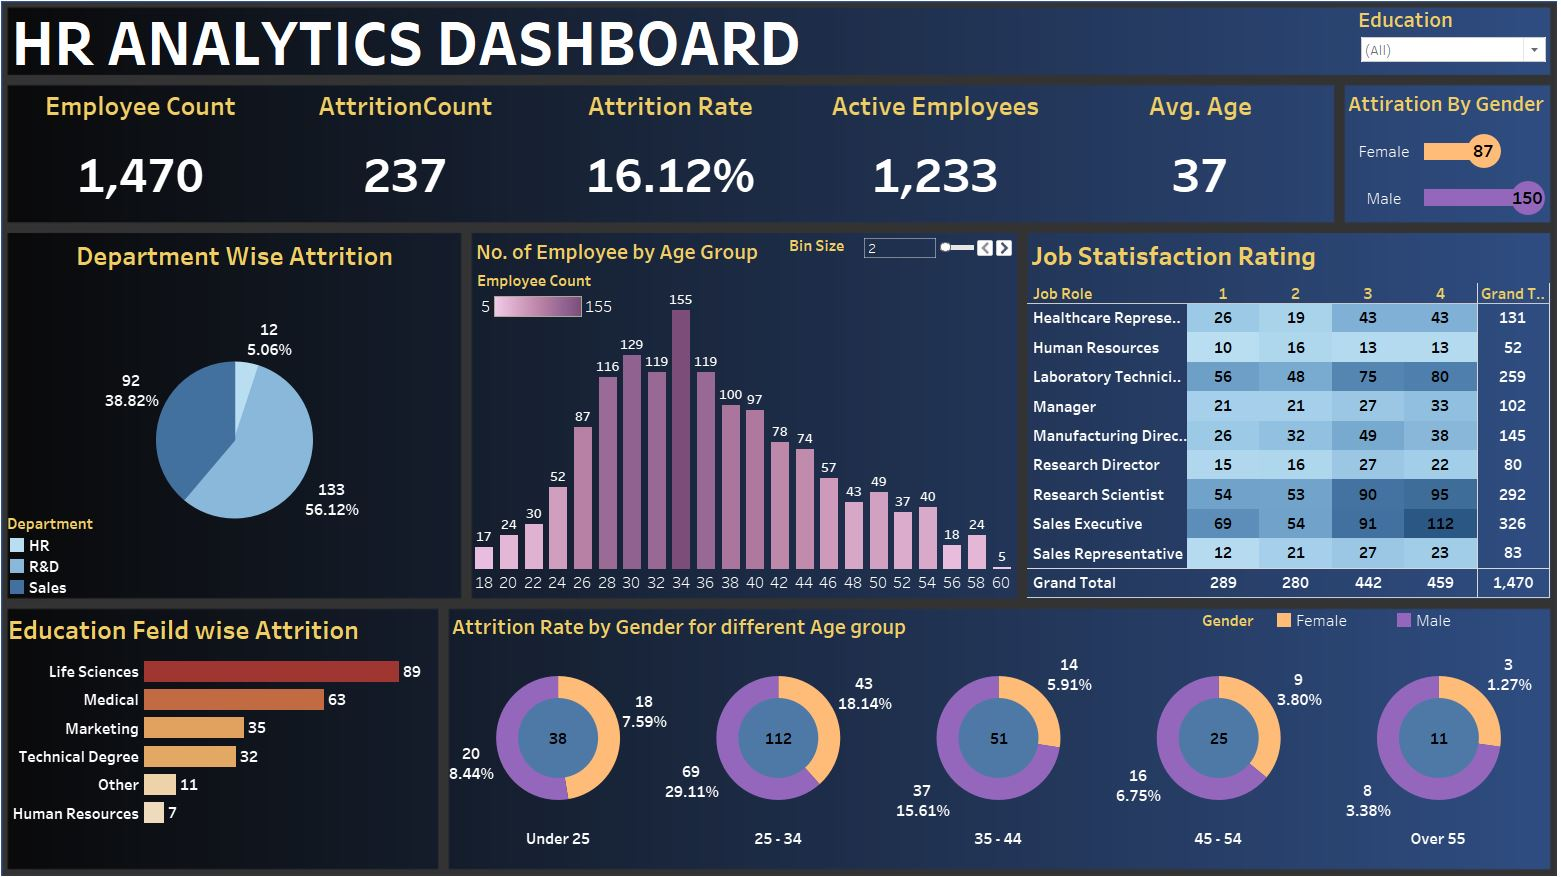

What the dashboard file says about the page in this screenshot:
{"tool":"tableau","page":{"name":"Hr Analytics","canvas":[1580,900],"ordinal":0},"visuals":[{"type":"image","param":"C:/Users/tanib/Desktop/Hr Data/HR background.png","box":[8,8,1564,884]},{"type":"filter","title":"Attiration By Gender","param":"[federated.0tjea1y01goqef17lbq961yqss4e].[none:Education:nk]","box":[1369,16,191,68]},{"type":"text","box":[19,19,800,65]},{"type":"worksheet","title":"KPI","mark":"Automatic","box":[19,96,1325,137]},{"type":"worksheet","title":"Attiration By Gender","mark":"Automatic","rows":["Gender"],"cols":["Calculation_3051188805402353664","Calculation_3051188805402353664"],"box":[1355,96,206,136]},{"type":"worksheet","title":"No. of Employee by Age Group","mark":"Automatic","rows":["Employee Count"],"cols":["Age (bin)"],"box":[483,244,542,362]},{"type":"worksheet","title":"Department Wise Attrition","mark":"Pie","box":[20,245,451,363]},{"type":"worksheet","title":"Job Statisfaction Rating","mark":"Square","rows":["Job Role"],"cols":["Job Satisfaction"],"box":[1038,245,523,364]},{"type":"parameter","param":"[Parameters].[Parameter 1]","box":[800,246,226,35]},{"type":"legend","title":"No. of Employee by Age Group","param":"[federated.0tjea1y01goqef17lbq961yqss4e].[sum:Employee Count:qk]","box":[488,281,140,54]},{"type":"legend","title":"Department Wise Attrition","param":"[federated.0tjea1y01goqef17lbq961yqss4e].[none:Department:nk]","box":[18,524,140,85]},{"type":"worksheet","title":"Education Feild wise Attrition","mark":"Automatic","rows":["Education Field"],"cols":["Calculation_3051188805402353664"],"box":[15,619,435,219]},{"type":"worksheet","title":"Attrition Rate by Gender for different Age group","mark":"Pie","rows":["Calculation_3051188805433548804","Calculation_3051188805433548804"],"cols":["CF_age band"],"box":[459,619,1101,242]},{"type":"legend","title":"Attrition Rate by Gender for different Age group","param":"[federated.0tjea1y01goqef17lbq961yqss4e].[none:Gender:nk]","box":[1213,621,347,25]}]}

Visuals, with their boxes in screenshot pixels (x1, y1, x2, y2), scaled from the page's 1580x900 canvas onto the 1561x877 screenshot:
image: bbox(8, 8, 1553, 869)
"Attiration By Gender" filter: bbox(1353, 16, 1541, 82)
text: bbox(19, 19, 809, 82)
"KPI" worksheet: bbox(19, 94, 1328, 227)
"Attiration By Gender" worksheet: bbox(1339, 94, 1542, 226)
"No. of Employee by Age Group" worksheet: bbox(477, 238, 1013, 591)
"Department Wise Attrition" worksheet (Pie marks): bbox(20, 239, 465, 592)
"Job Statisfaction Rating" worksheet (Square marks): bbox(1026, 239, 1542, 593)
parameter: bbox(790, 240, 1014, 274)
"No. of Employee by Age Group" legend: bbox(482, 274, 620, 326)
"Department Wise Attrition" legend: bbox(18, 511, 156, 593)
"Education Feild wise Attrition" worksheet: bbox(15, 603, 445, 817)
"Attrition Rate by Gender for different Age group" worksheet (Pie marks): bbox(453, 603, 1541, 839)
"Attrition Rate by Gender for different Age group" legend: bbox(1198, 605, 1541, 629)
